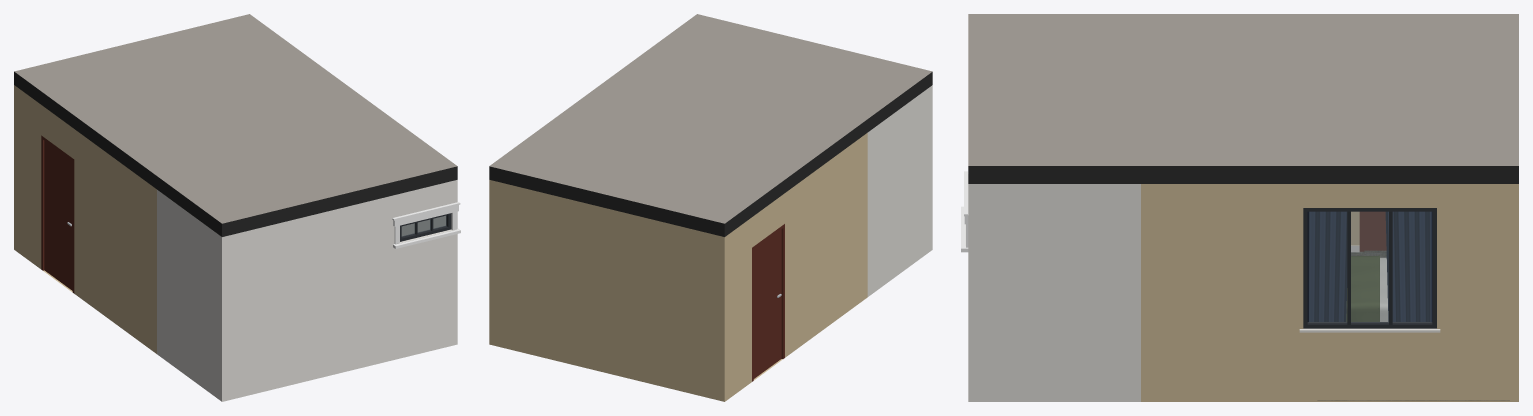
The model's file is habitacion_1.glb.
3 views of the same model, side by side, from view 1: azimuth 30°, elevation 25°; view 2: azimuth 150°, elevation 25°; view 3: azimuth 270°, elevation 25° (orthographic). The views are drawn at different scales.
Visible parts, largest first — view 1: Roof, Wall 4f1rr6xsn0yp (×2), Wall mxg2vt3qrxx6 (×4), Wall ji09w7vcn2f4, Opening trim, Wall flt9jatzmxa8; view 2: Roof, Wall c2dly6zlpa44, Wall mxg2vt3qrxx6 (×3), Wall ji09w7vcn2f4; view 3: Roof, Wall eaqnsa6nq6bt (×9), Wall flt9jatzmxa8, Item w95wrqv2ajj4, Item h9k7tjfw0s2b (×2), Wall mxg2vt3qrxx6, Opening trim.
Part boxes in pixels (left/top/right/bottom): Roof: left=14, top=14, right=457, bottom=236; Wall 4f1rr6xsn0yp (×2): left=222, top=180, right=457, bottom=401; Wall mxg2vt3qrxx6 (×4): left=14, top=85, right=156, bottom=353; Wall ji09w7vcn2f4: left=157, top=190, right=221, bottom=401; Opening trim: left=392, top=202, right=460, bottom=248; Wall flt9jatzmxa8: left=401, top=215, right=445, bottom=236; Roof: left=489, top=14, right=932, bottom=236; Wall c2dly6zlpa44: left=489, top=180, right=724, bottom=401; Wall mxg2vt3qrxx6 (×3): left=724, top=133, right=867, bottom=401; Wall ji09w7vcn2f4: left=867, top=85, right=932, bottom=296; Roof: left=968, top=14, right=1518, bottom=183; Wall eaqnsa6nq6bt (×9): left=1141, top=184, right=1518, bottom=401; Wall flt9jatzmxa8: left=968, top=184, right=1140, bottom=401; Item w95wrqv2ajj4: left=1307, top=211, right=1432, bottom=321; Item h9k7tjfw0s2b (×2): left=1346, top=255, right=1388, bottom=321; Wall mxg2vt3qrxx6: left=1364, top=211, right=1386, bottom=250; Opening trim: left=961, top=171, right=968, bottom=252.
Bounding box in the file's own units: 4.07 × 2.92 × 6.26.
Materials: 141 (28 with a texture image).
